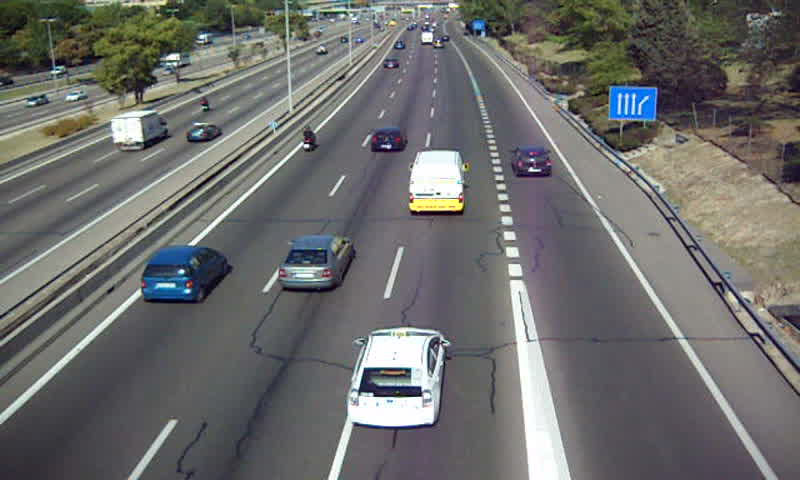car: (347, 329, 444, 428), (142, 248, 225, 301), (277, 237, 352, 290), (510, 144, 554, 176), (370, 125, 409, 152), (381, 58, 400, 72)
motorcycle: (300, 124, 315, 154)
van: (408, 151, 464, 213)
